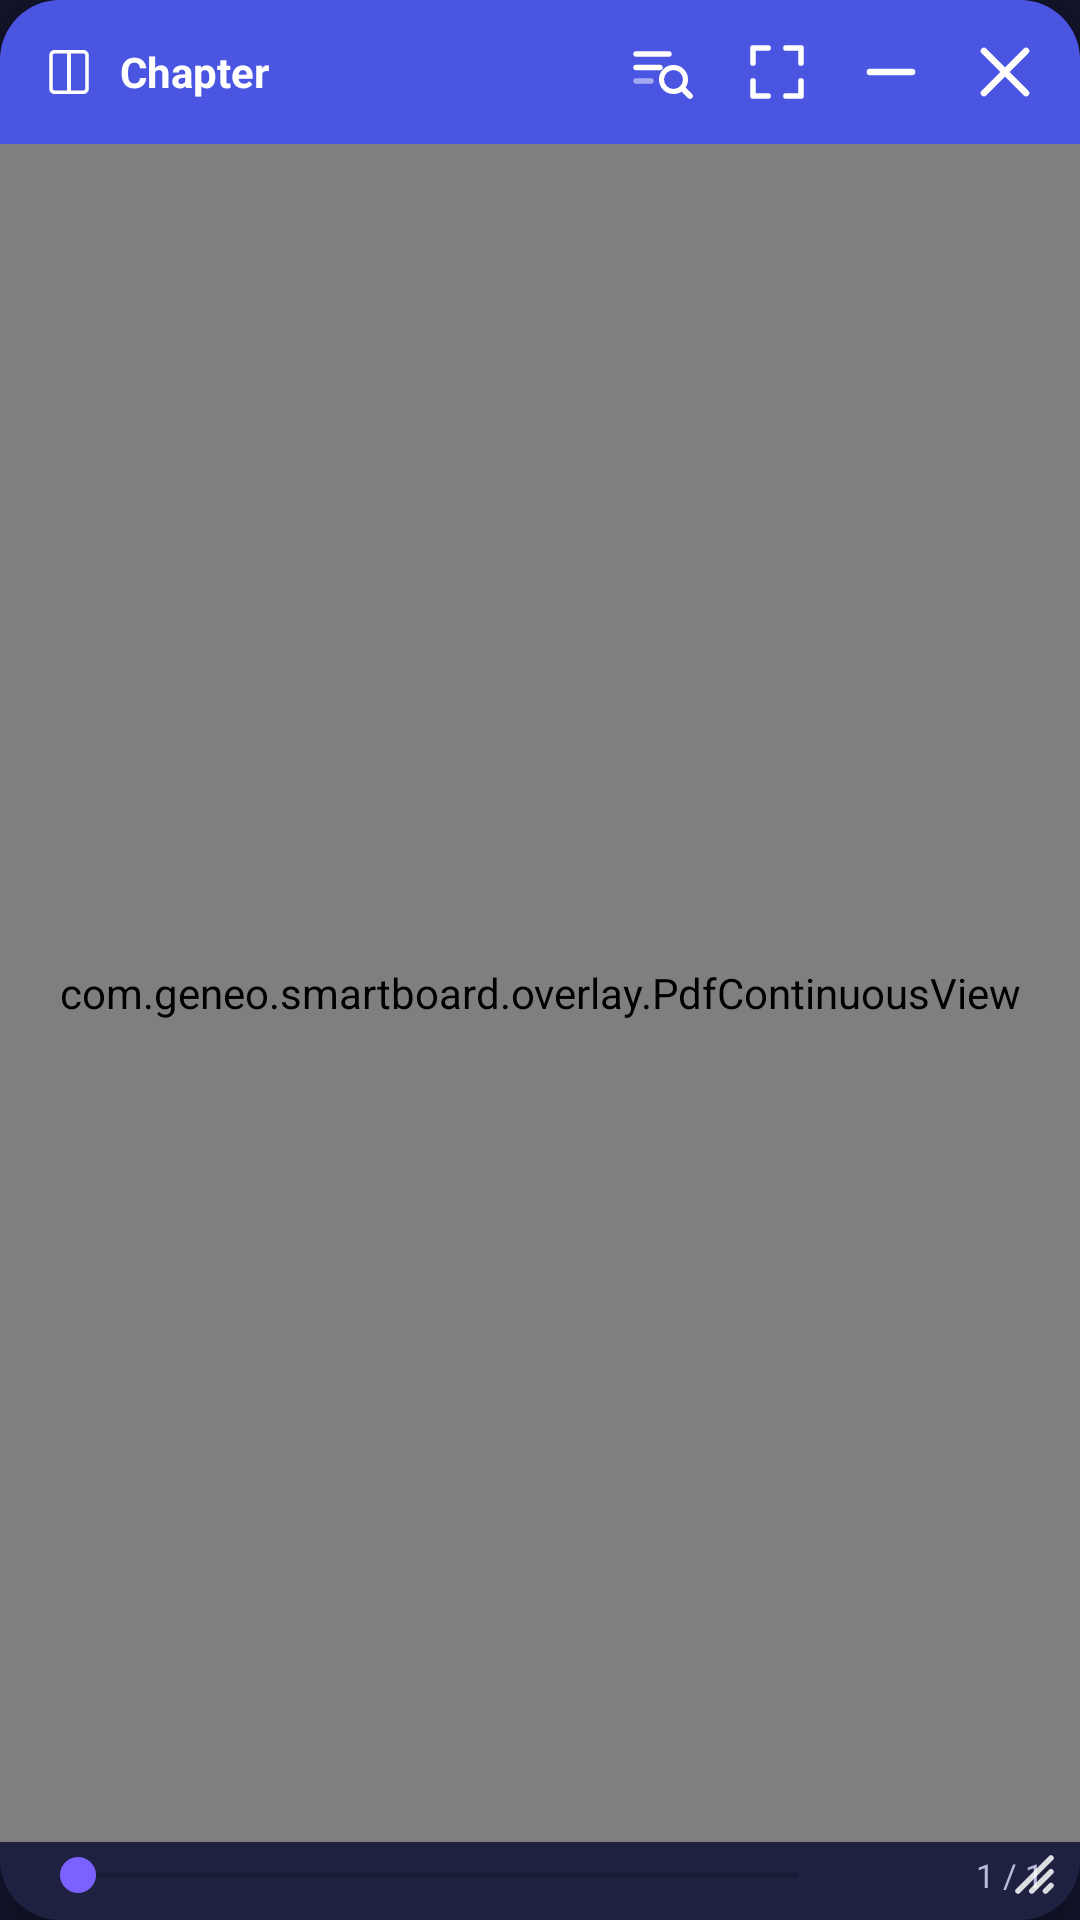

Named icons in this screenshot (1080 x 1920) and their centers, (x,y):
book: (69,72)
Close: (1005,72)
Maximize: (777,72)
Select word for meaning: (663,75)
